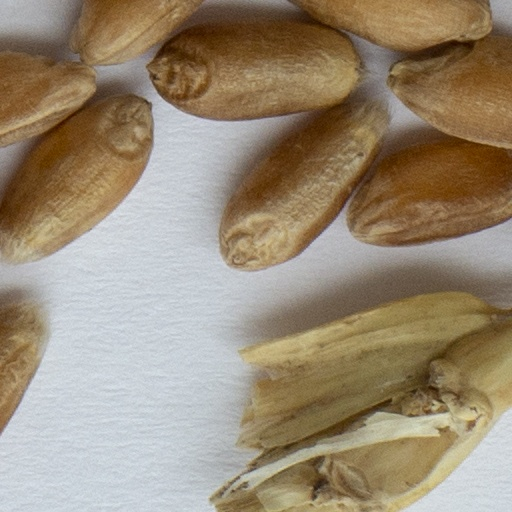Peel-poly: (205, 286, 511, 511)
